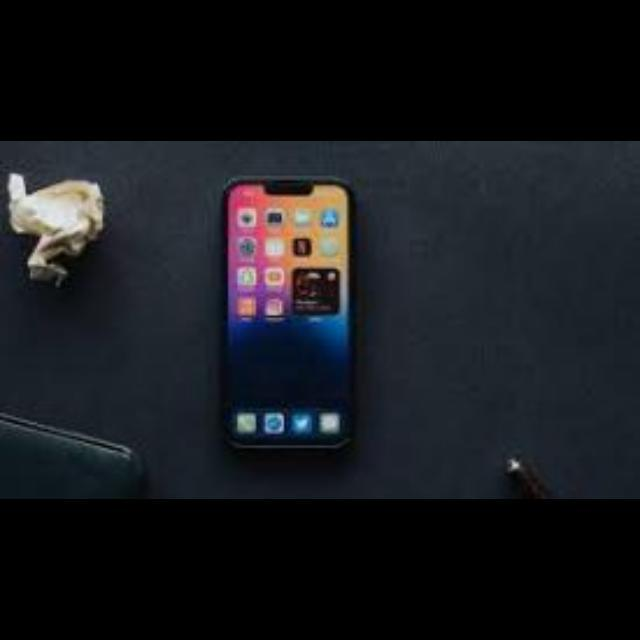Phone: (222, 180, 360, 456)
